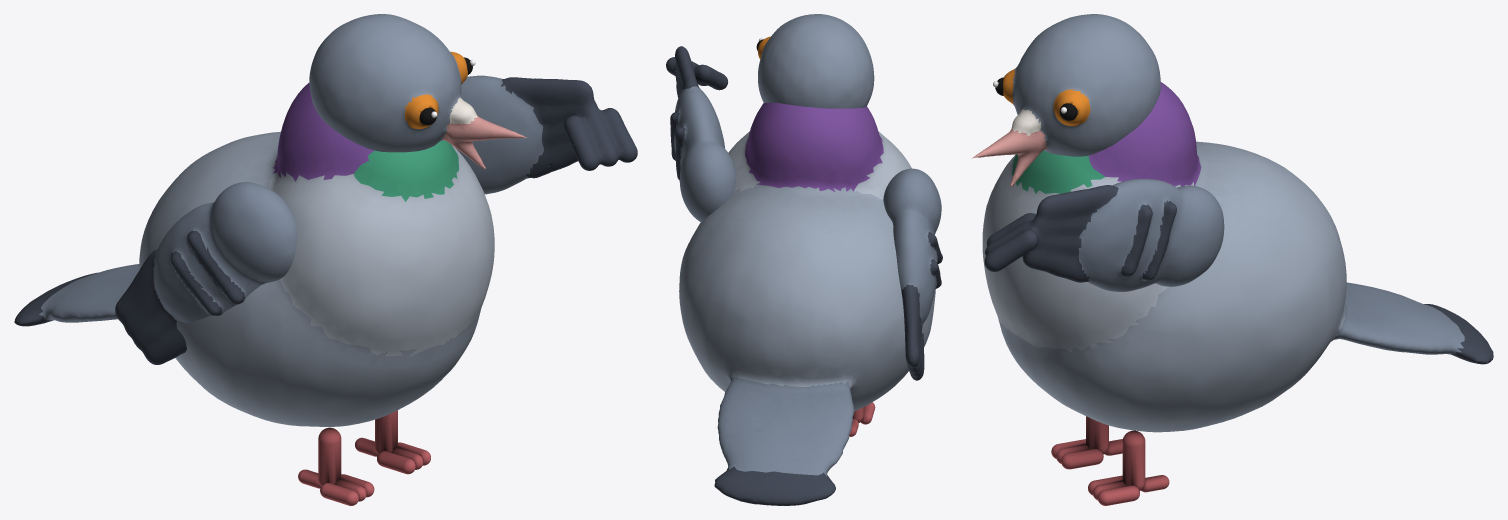
File: vad-ar-losenordet-till-wifit.glb
3 renders of one model, left to right at view 1: azimuth 30°, elevation 25°; view 2: azimuth 150°, elevation 25°; view 3: azimuth 270°, elevation 25°, orthographic. The views are drawn at different scales.
Parts seen in each view (by area): view 1: pombo__r0, cabeca__r0, asaD__r0, asa__r0, pombo__r7, pombo__r2; view 2: pombo__r0, cabeca__r0, asa__r0, asaD__r0; view 3: pombo__r0, asa__r0, cabeca__r0, pombo__r2, pombo__r7, pombo__r10, pombo__r5.
Boxes of the visible parts, <box> form: pombo__r0: <box>14,82,494,426</box>; cabeca__r0: <box>309,14,528,169</box>; asaD__r0: <box>115,182,297,364</box>; asa__r0: <box>456,75,637,194</box>; pombo__r7: <box>318,427,341,486</box>; pombo__r2: <box>375,410,397,454</box>; pombo__r0: <box>679,102,935,505</box>; cabeca__r0: <box>758,14,874,108</box>; asa__r0: <box>666,46,736,222</box>; asaD__r0: <box>883,168,942,380</box>; pombo__r0: <box>982,82,1493,432</box>; asa__r0: <box>984,179,1224,291</box>; cabeca__r0: <box>972,14,1160,186</box>; pombo__r2: <box>1122,430,1145,490</box>; pombo__r7: <box>1086,416,1108,454</box>; pombo__r10: <box>1061,449,1103,469</box>; pombo__r5: <box>1097,485,1139,505</box>.
Bounding box in the file's own units: 1.43 × 1.58 × 1.62.
